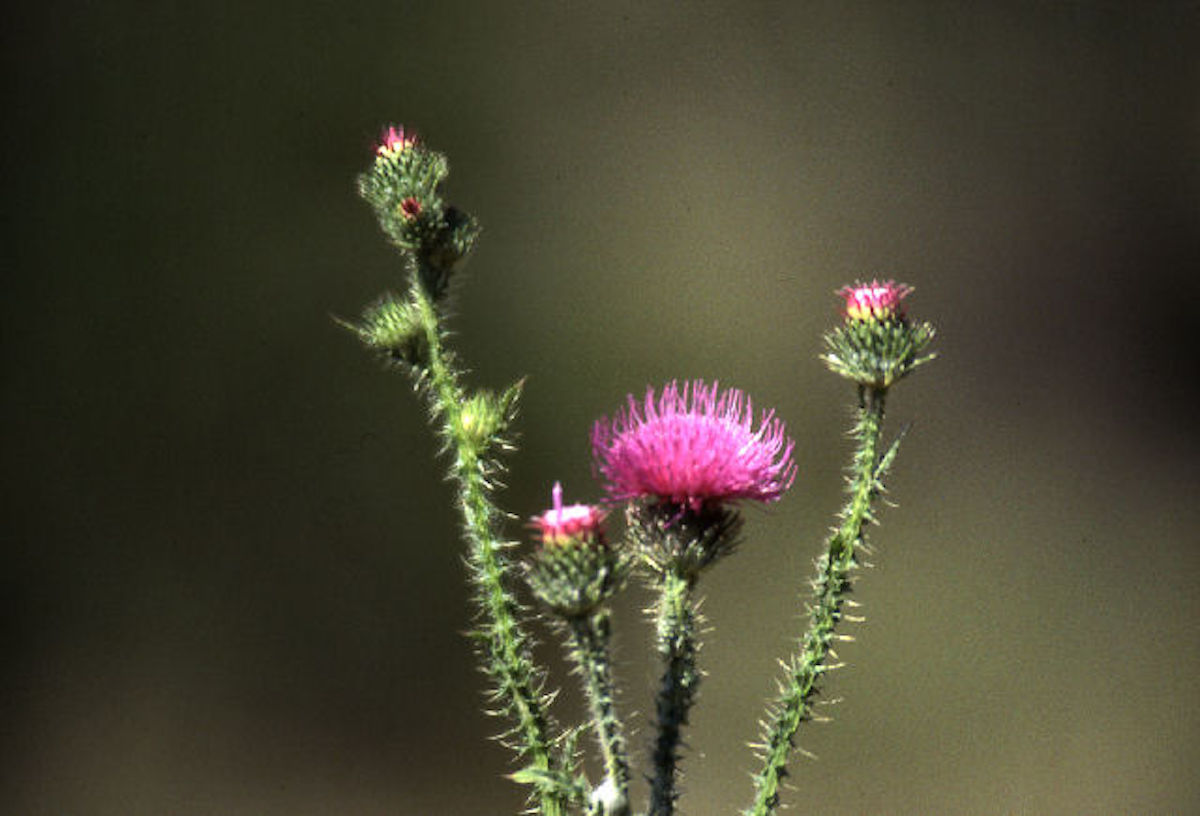thistle: (587, 378, 805, 592), (822, 284, 953, 397), (527, 501, 623, 610)
